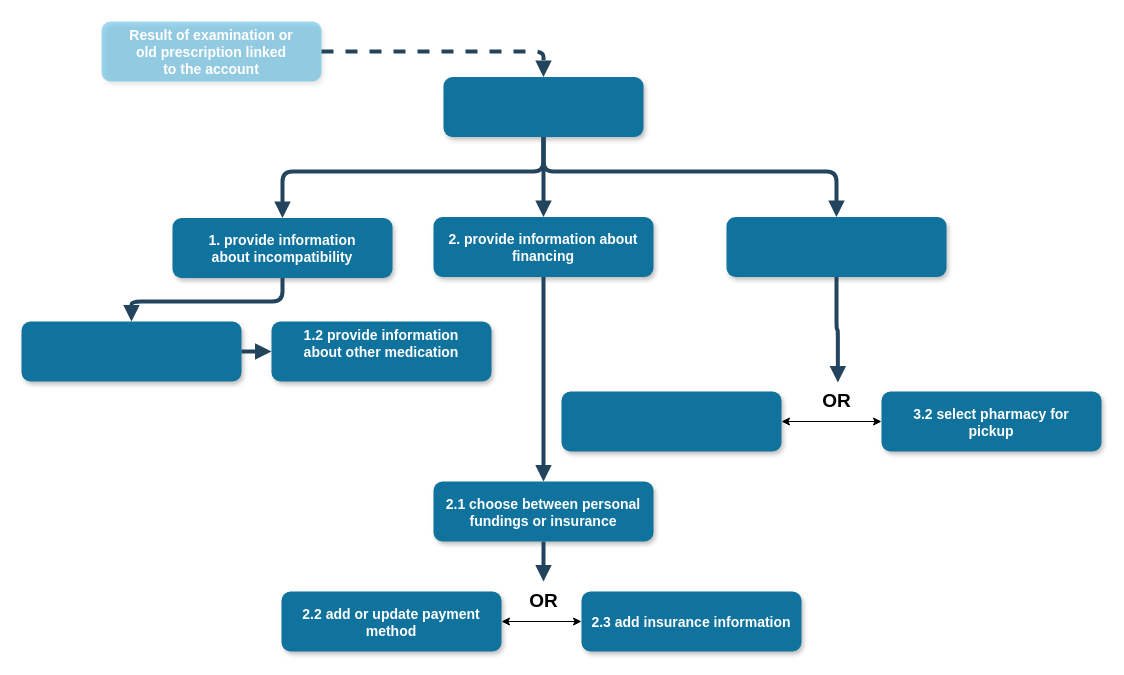
Image size: 1124x675. Some labels were removed from this diagram. The centre of each missing label's shape, as x and y in pixels:
"0. Get a prescription or renew an existing one" belongs at (x=544, y=108).
"1.1 provide information about allergies" belongs at (x=132, y=352).
"3. choose type of delivery" belongs at (x=837, y=248).
"3.1 provide address for delivery" belongs at (x=672, y=422).
